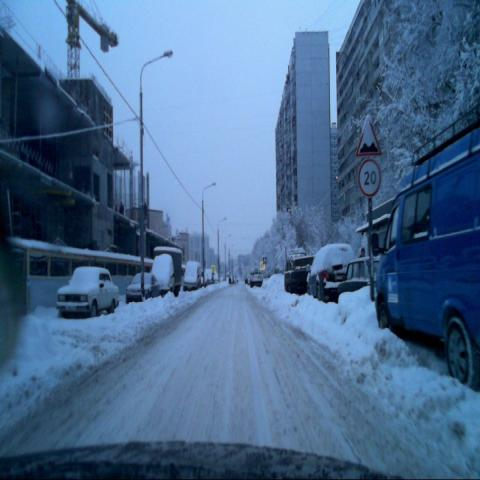1_16: (354, 115, 382, 156)
3_24: (358, 156, 382, 197)
